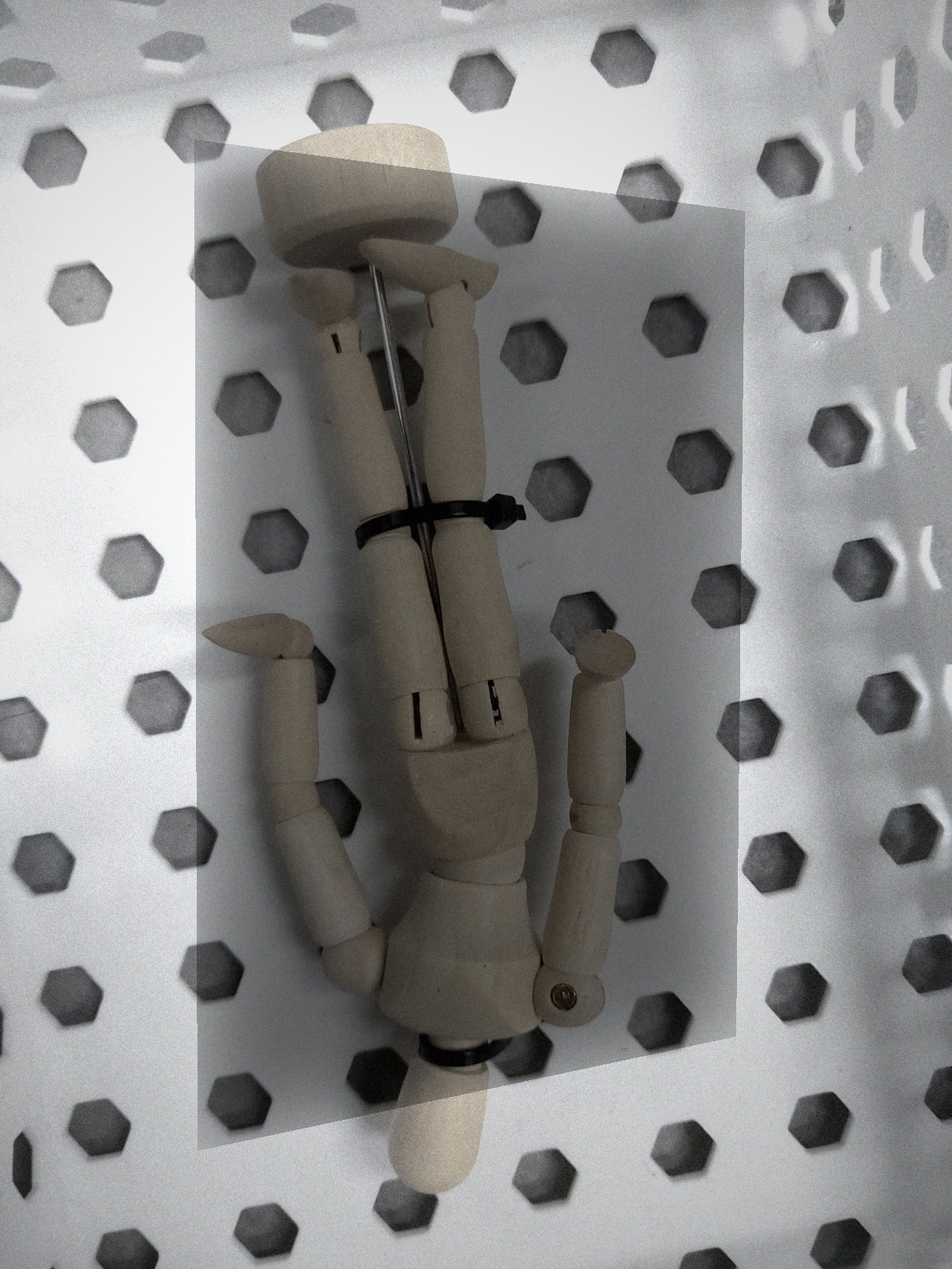mannequin: (194, 120, 642, 1206)
